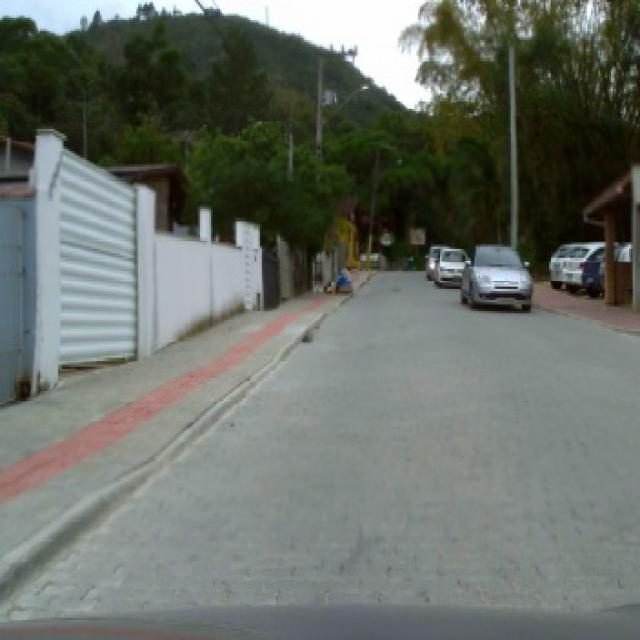Poth-hole: (302, 329, 314, 342)
